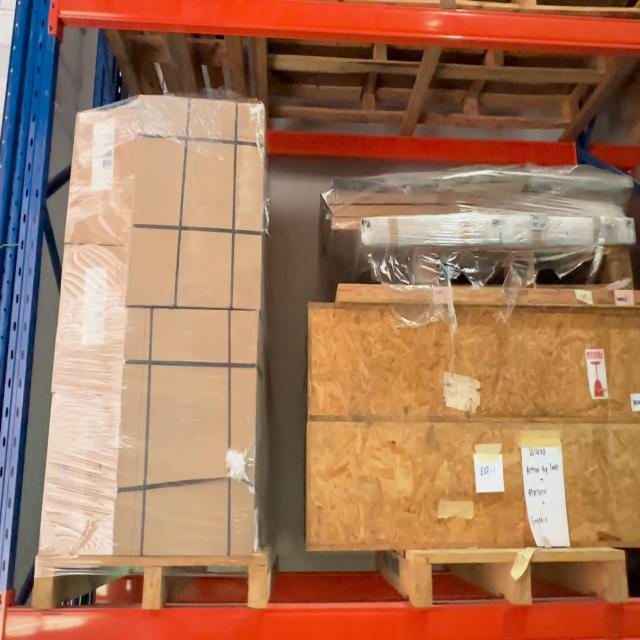box: (128, 307, 252, 554), (138, 104, 262, 304), (54, 396, 112, 551), (65, 245, 122, 392), (77, 110, 132, 241)
